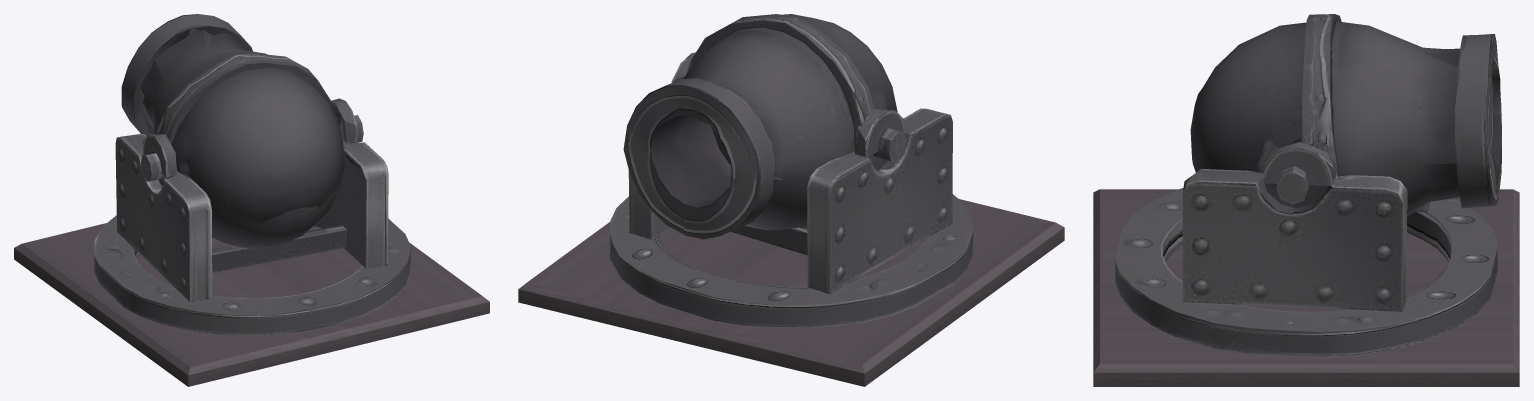
The picture shows the model from 3 angles, left to right: view 1: azimuth 30°, elevation 25°; view 2: azimuth 150°, elevation 25°; view 3: azimuth 270°, elevation 25°; orthographic projection. The views are drawn at different scales.
Parts seen in each view (by area): view 1: mount, barrel, plate; view 2: barrel, mount, plate; view 3: mount, barrel, plate.
Boxes of the visible parts, x1,y1,x2,y2 form: mount: (94, 98, 410, 335); barrel: (121, 14, 344, 248); plate: (14, 223, 489, 386); barrel: (623, 14, 897, 239); mount: (610, 52, 973, 327); plate: (518, 199, 1064, 386); mount: (1115, 142, 1497, 356); barrel: (1190, 14, 1501, 215); plate: (1093, 189, 1519, 386).
Bounding box in the file's own units: 1.9 × 1.36 × 1.9.
2 materials, 2 textured.
